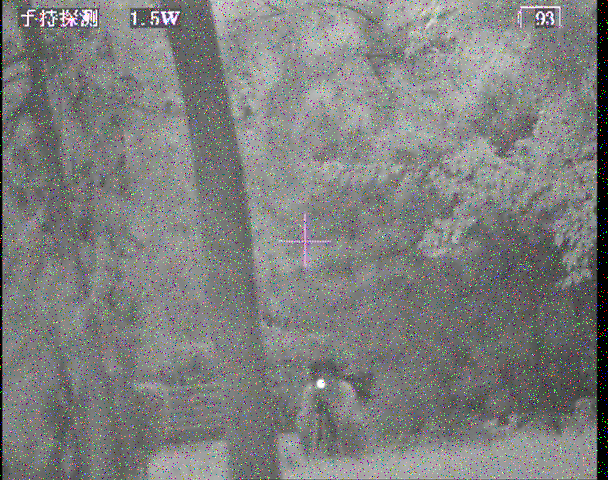my: (315, 378, 326, 390)
